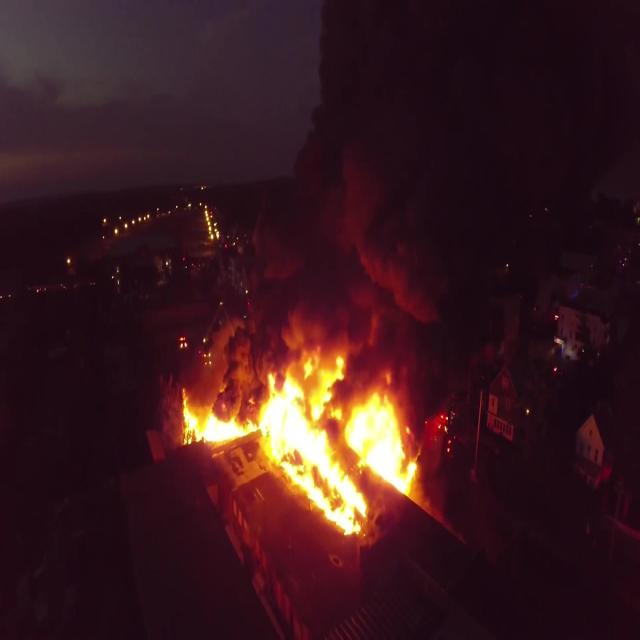Fire: (178, 330, 423, 542)
Smoke: (183, 0, 613, 474)
